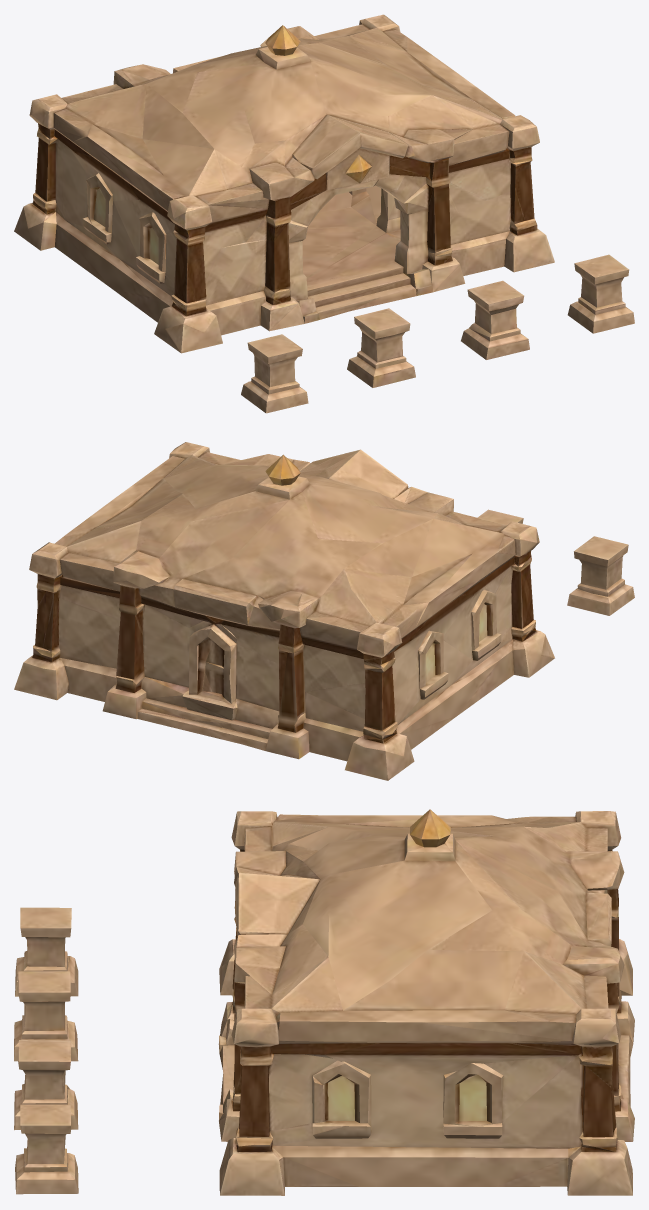
File: alpha-memorial-hall.glb
3 views of the same model, one above another, from view 1: azimuth 30°, elevation 25°; view 2: azimuth 150°, elevation 25°; view 3: azimuth 270°, elevation 25° (orthographic). The views are drawn at different scales.
Size of the model in its own units: 1.65 by 0.9243 by 1.9.
1 material, 1 textured.
